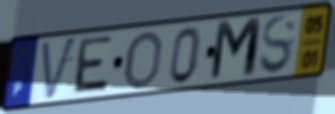0: (167, 24, 203, 87)
E: (69, 33, 115, 96)
M: (207, 14, 264, 85)
O: (122, 29, 165, 91)
S: (257, 12, 298, 77)
V: (39, 34, 79, 104)
